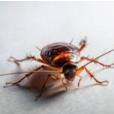cockroach: (37, 41, 90, 86)
